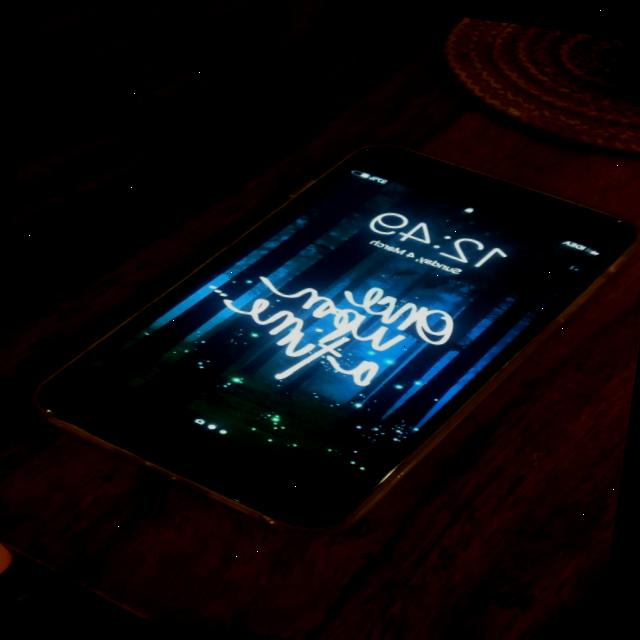Phone: (9, 93, 640, 580)
